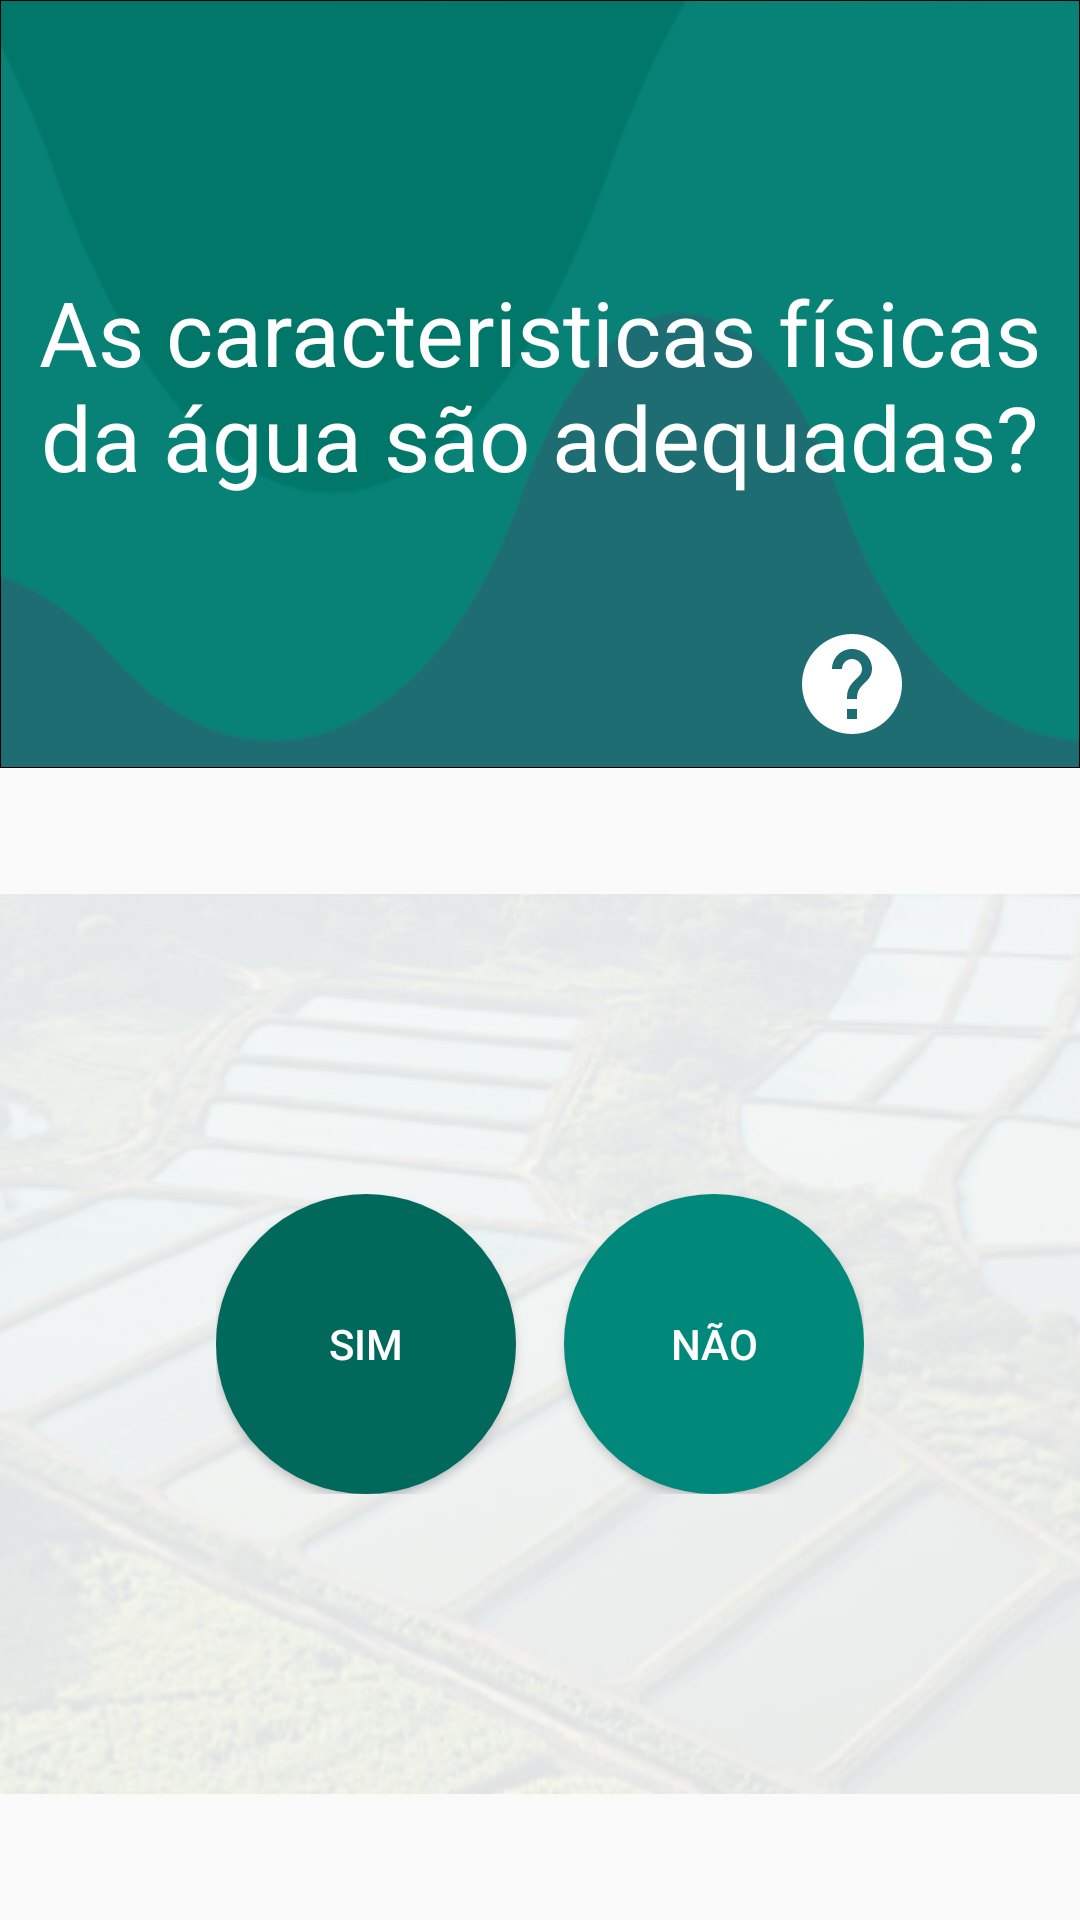

Where icons sit on this 1080x1920 app screen, as (left=x1, top=y1, right=x2, bottom=y2):
help: (left=802, top=634, right=902, bottom=734)
